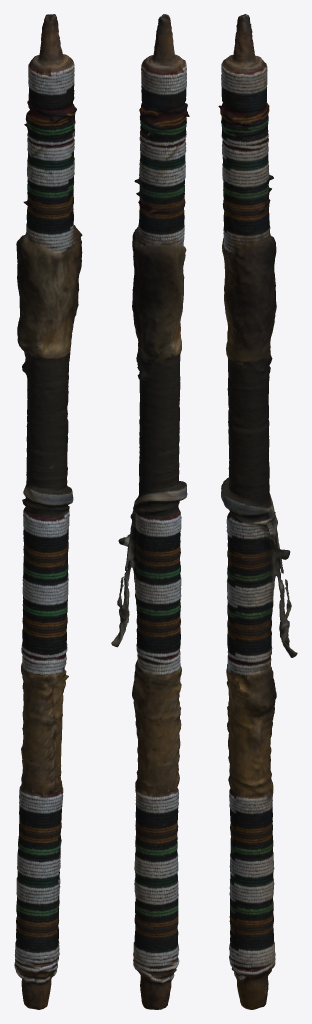
File: pipe.glb
3 renders of one model, left to right at view 1: azimuth 90°, elevation 25°; view 2: azimuth 150°, elevation 25°; view 3: azimuth 330°, elevation 25°, orthographic.
Visible parts, largest first — view 1: pipe; view 2: pipe; view 3: pipe.
Boxes of the visible parts, x1,y1,x2,y2 form: pipe: [14, 14, 82, 1009]; pipe: [111, 14, 189, 1009]; pipe: [218, 14, 297, 1009].
Size of the model in its own units: 0.7941 by 11.22 by 0.6983.
Materials: 1 (1 with a texture image).
